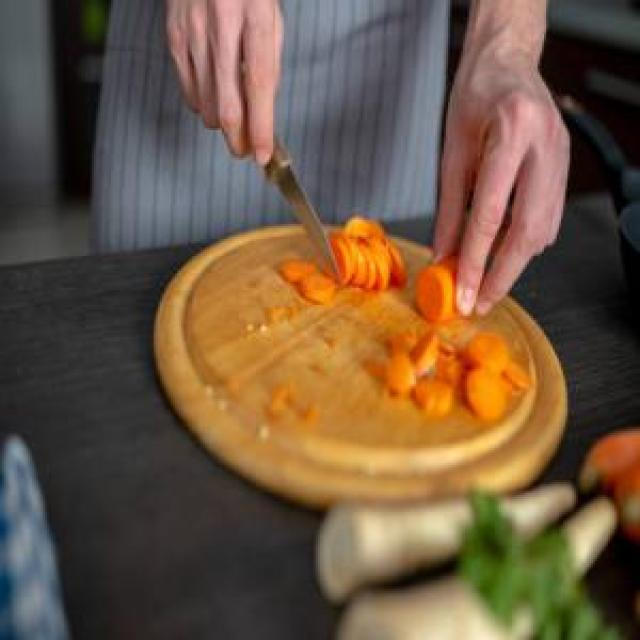knife: (256, 106, 349, 300)
